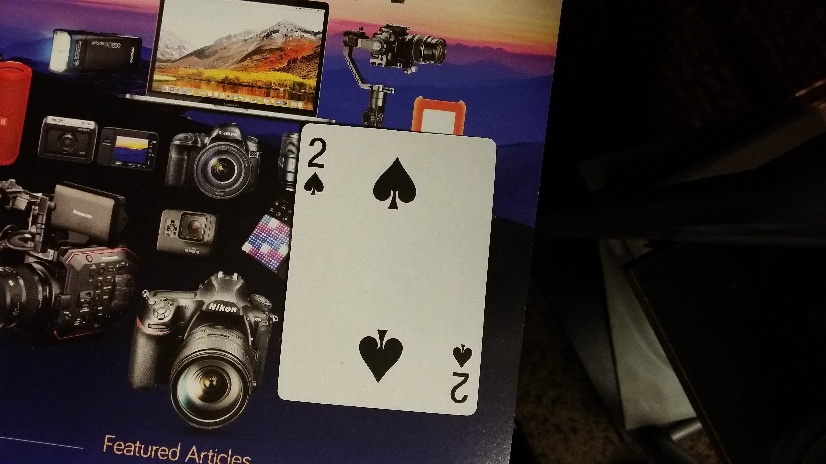S2: (449, 338, 474, 405), (305, 132, 329, 200)
